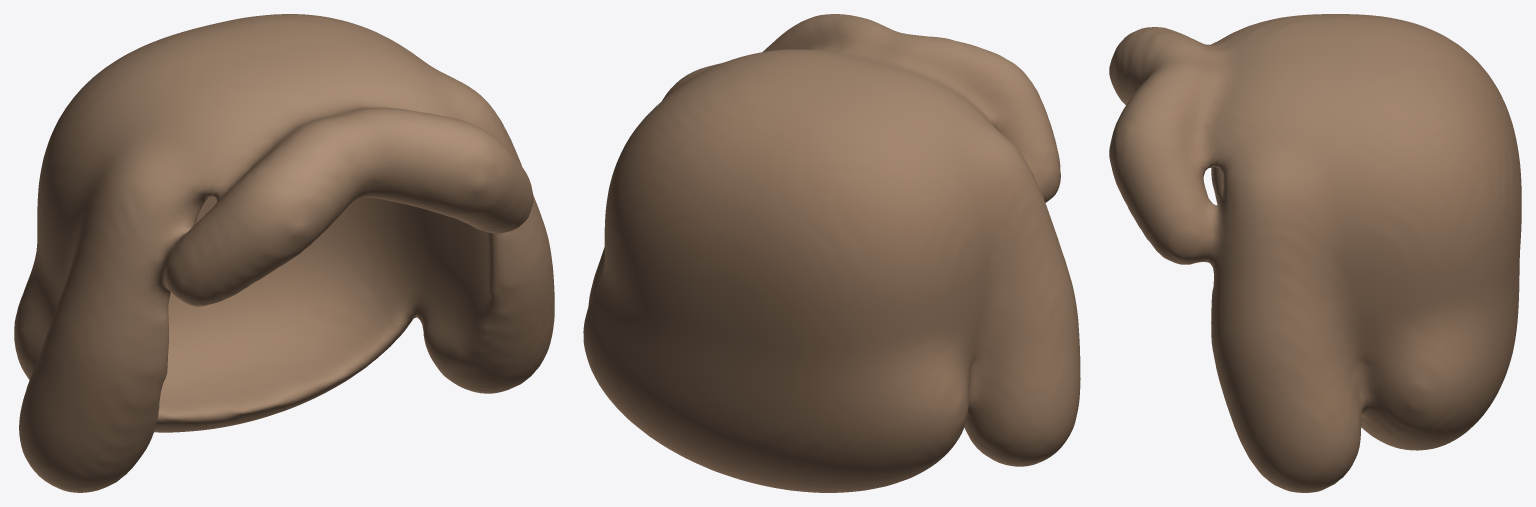
Rendered from hair_secretary_f.glb.
3 renders of one model, left to right at view 1: azimuth 30°, elevation 25°; view 2: azimuth 150°, elevation 25°; view 3: azimuth 270°, elevation 25°, orthographic. The views are drawn at different scales.
Parts seen in each view (by area): view 1: world; view 2: world; view 3: world.
Boxes of the visible parts, left/top/right/bottom form: world: left=14, top=14, right=554, bottom=492; world: left=583, top=14, right=1080, bottom=492; world: left=1109, top=14, right=1521, bottom=492.
Bounding box in the file's own units: 0.7844 × 0.5814 × 0.587.
